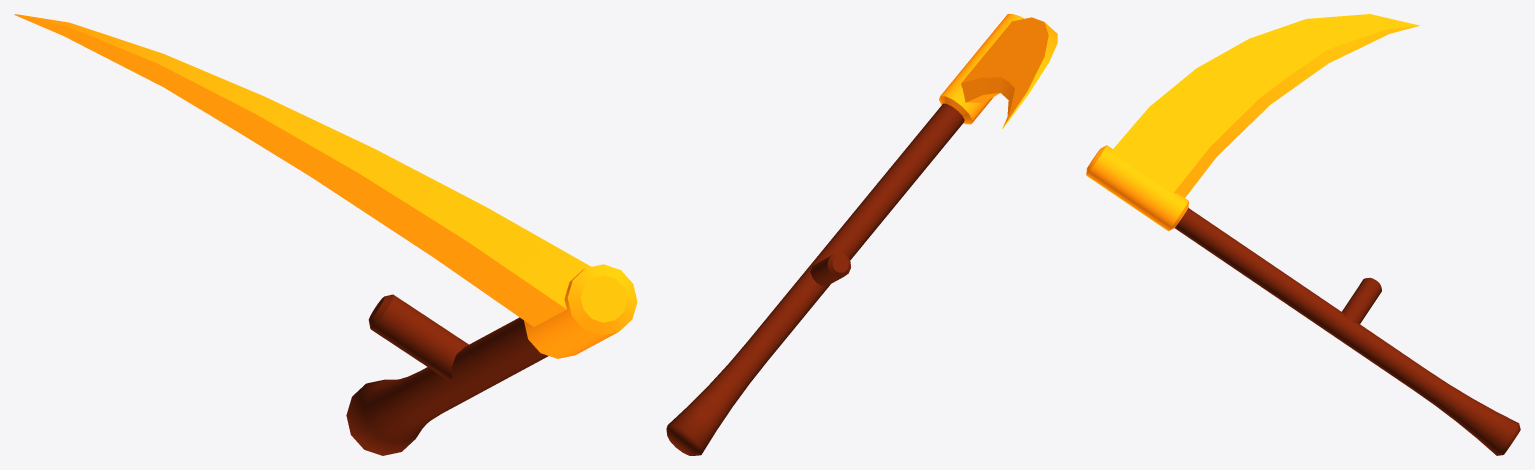
Rendered from Bl_Scynthe.fbx.
The picture shows the model from 3 angles, left to right: view 1: azimuth 30°, elevation 25°; view 2: azimuth 150°, elevation 25°; view 3: azimuth 270°, elevation 25°; orthographic projection. The views are drawn at different scales.
Visible parts, largest first — view 1: PlayerSuperSythe; view 2: PlayerSuperSythe; view 3: PlayerSuperSythe.
Part boxes in pixels (box(x1,y1,x2,y2)): PlayerSuperSythe: box(14, 14, 637, 455); PlayerSuperSythe: box(666, 14, 1057, 455); PlayerSuperSythe: box(1086, 14, 1520, 455).
Size of the model in its own units: 0.8653 by 1.08 by 1.29.
